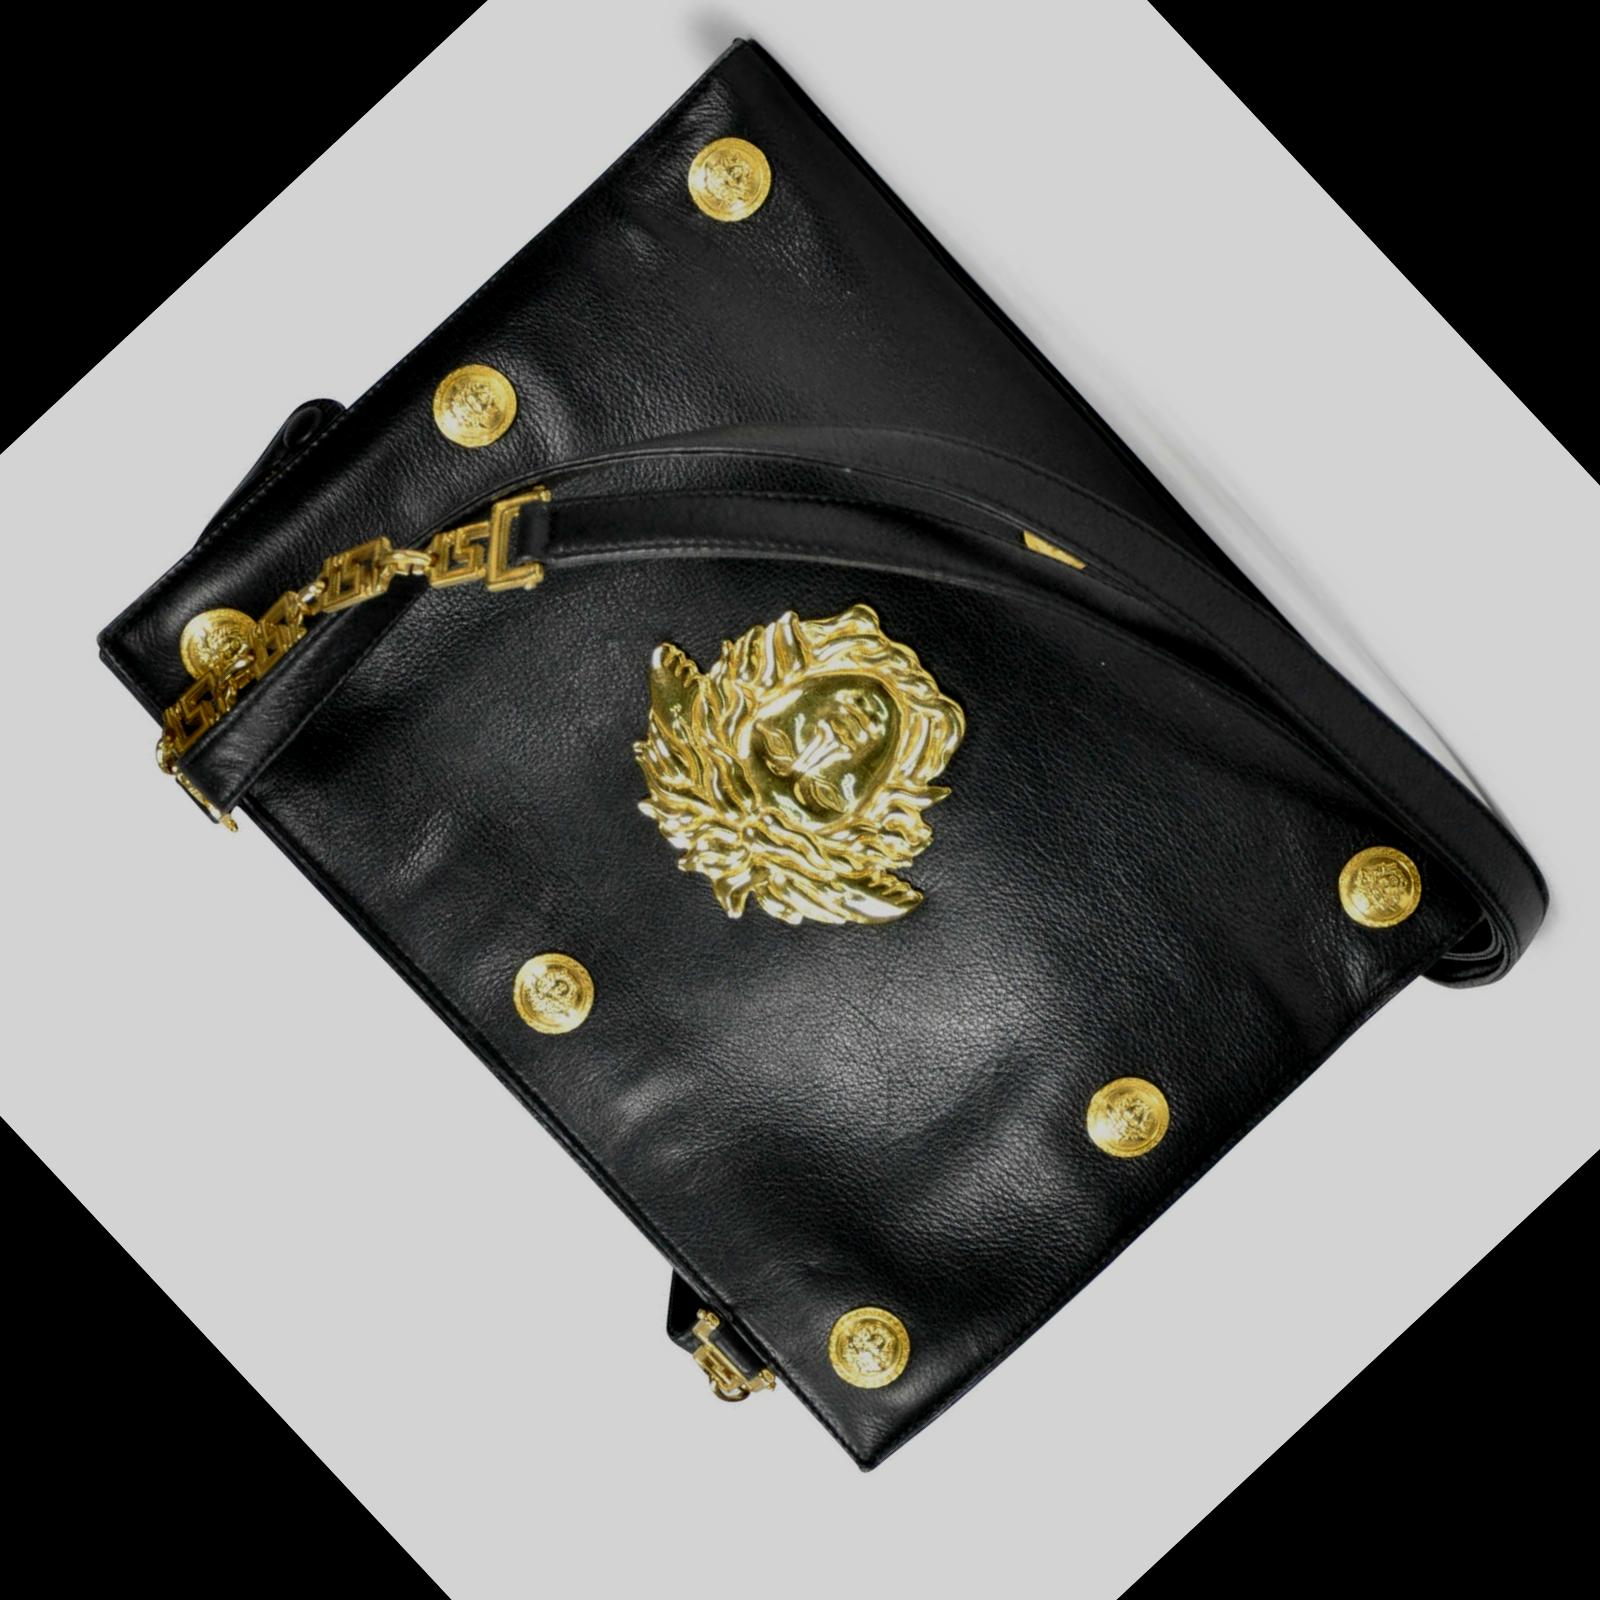VERSACE: (560, 519, 1045, 1007)
